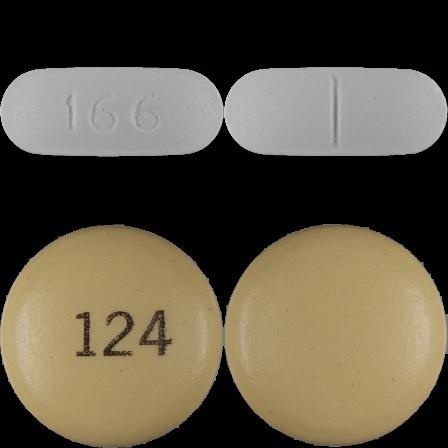53808-1046: (0, 0, 224, 224)
